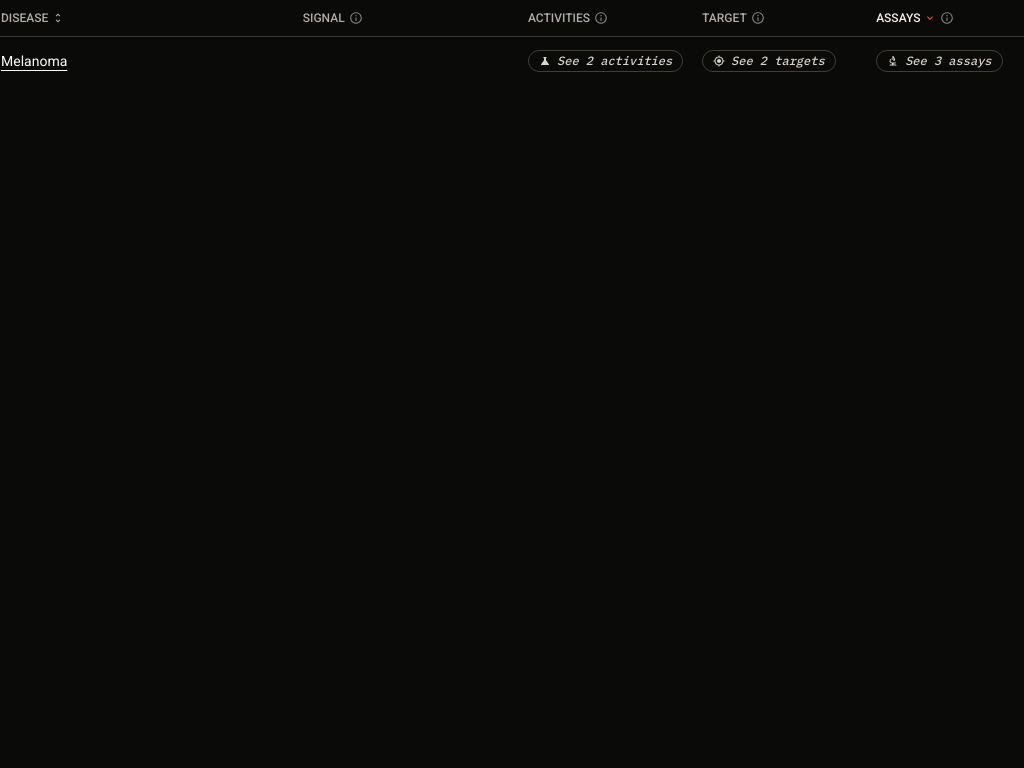
Test: targets › opens a modal with every target's label and id
Expected: the link "melanoma" is shown, [1, 50, 67, 70]
Step 1. Click the button "See 2 targets" → (769, 60), box [702, 50, 836, 72]
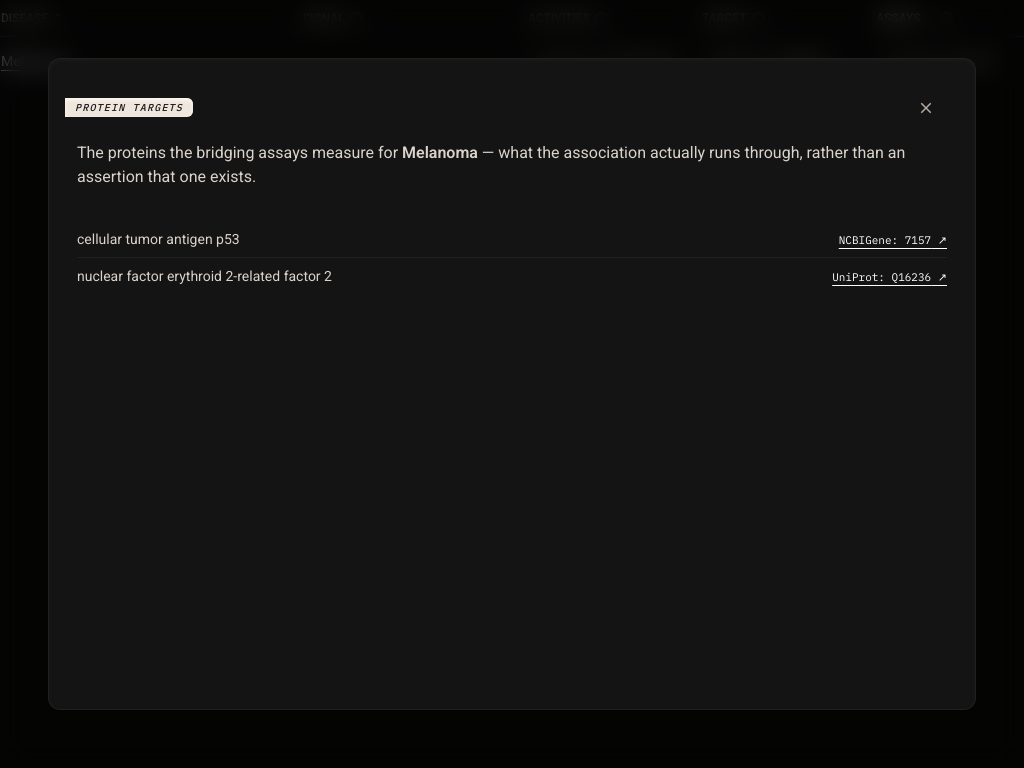
Now the heading "Protein targets" is shown, box [65, 98, 193, 117]
Now the text "cellular tumor antigen p53" is shown, box [77, 229, 240, 249]
Now the text "nuclear factor erythroid 2-related factor 2" is shown, box [77, 266, 332, 286]
